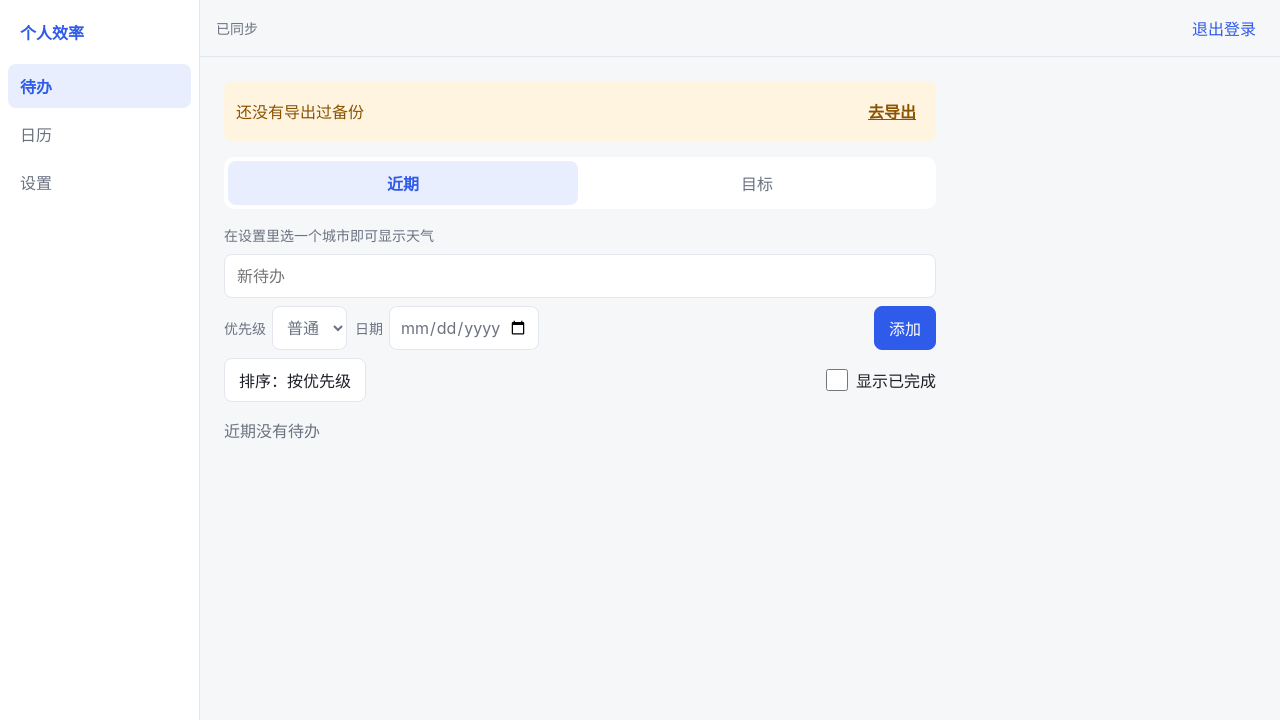
Scenario: Settings: edges › a never-exported reminder says so, and its link opens the settings page
Expected: the text "还没有导出过备份" is shown, x1=236 y1=99 x2=364 y2=123
Expected: the text "导出完整备份" is not shown
What coordinates should you click on to do the following:
click the button "去导出"
I would click on:
 (892, 111)
Its box is x1=860 y1=91 x2=924 y2=131.
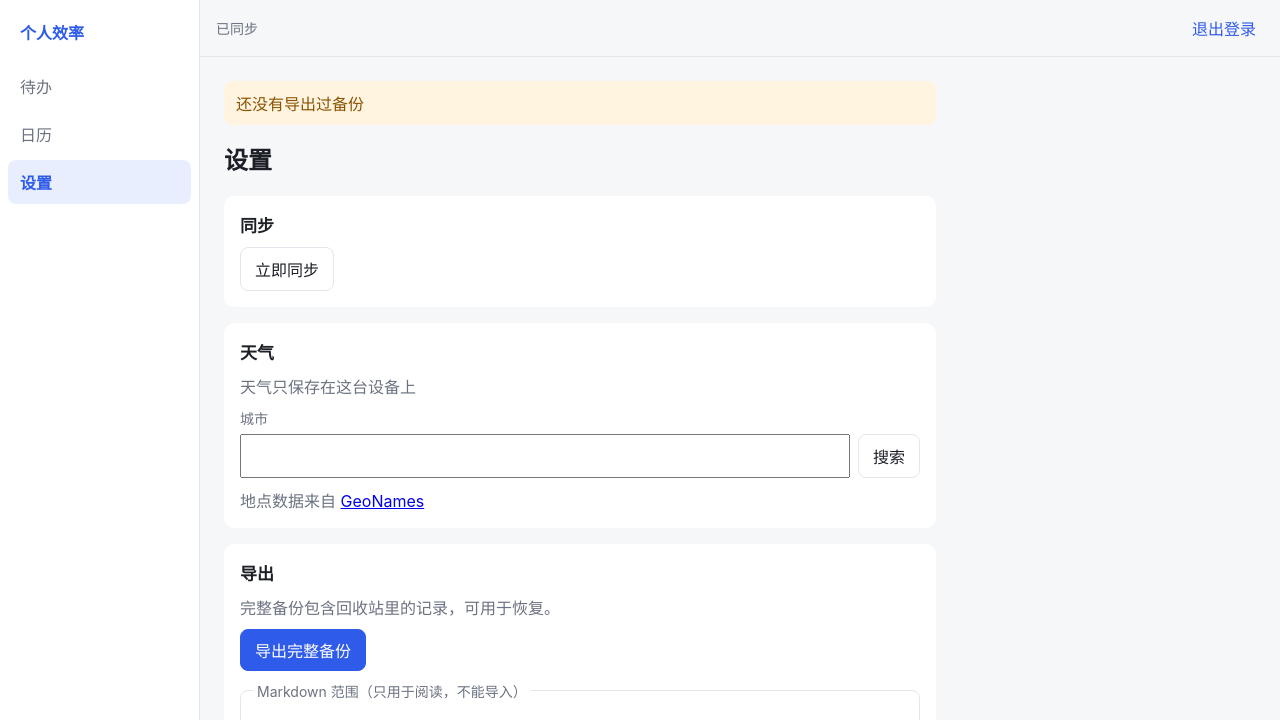
Now the button "导出完整备份" is shown, box x1=240 y1=629 x2=366 y2=671
